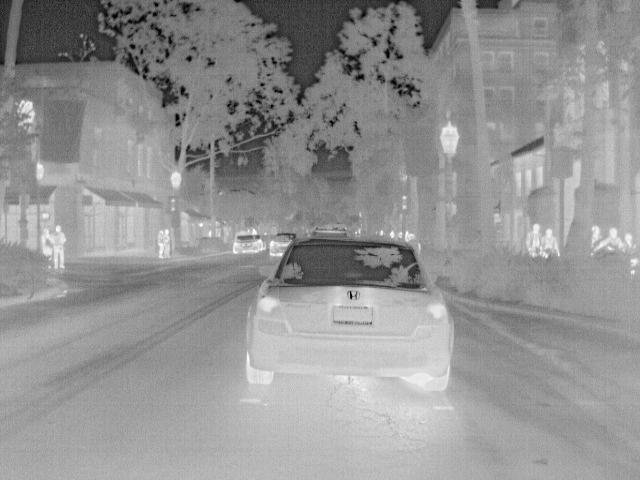car: (246, 228, 451, 394), (267, 233, 299, 258), (232, 230, 262, 256)
person: (48, 225, 68, 272), (595, 224, 625, 253), (542, 229, 563, 258), (527, 222, 544, 256), (37, 228, 53, 260), (161, 228, 174, 259), (405, 233, 421, 258), (623, 231, 638, 256), (589, 223, 602, 249)
